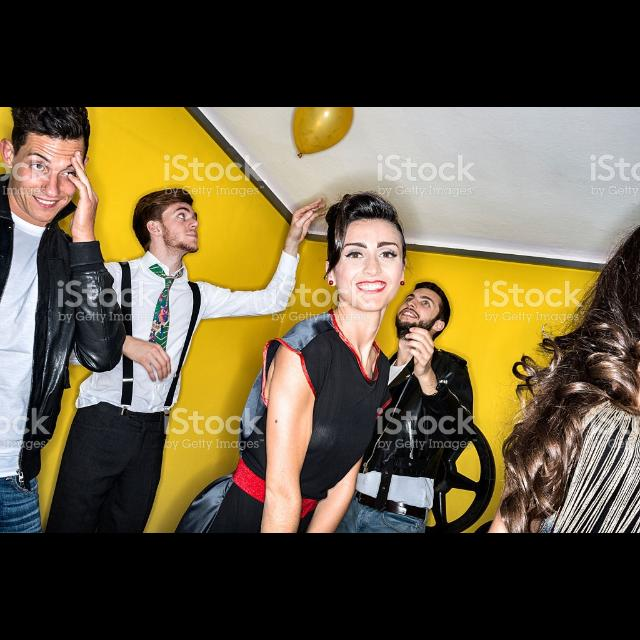head: (0, 112, 92, 224), (325, 210, 409, 312), (135, 193, 201, 254), (395, 287, 449, 339)
